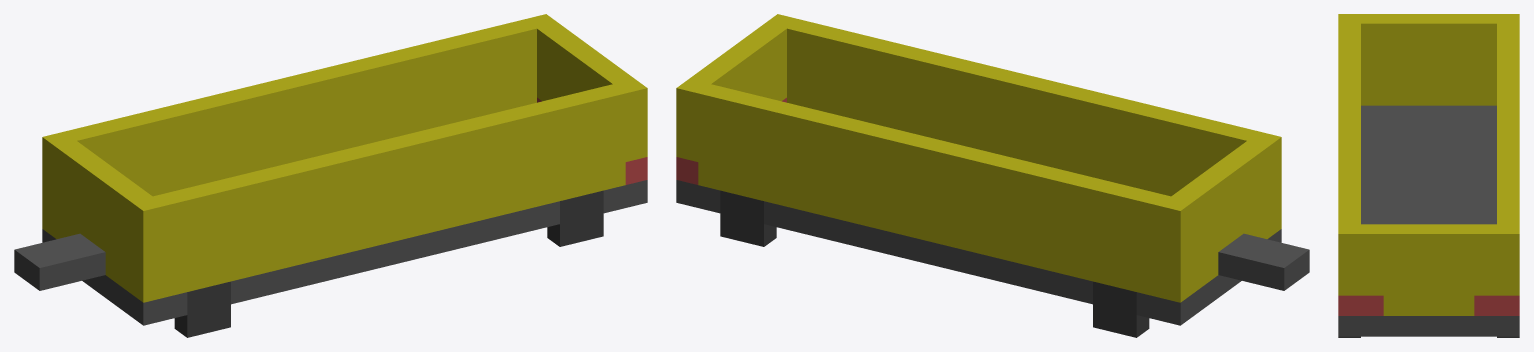
The model's file is tractor-trailer-v1-yellow.gltf.
The picture shows the model from 3 angles, left to right: view 1: azimuth 30°, elevation 25°; view 2: azimuth 150°, elevation 25°; view 3: azimuth 270°, elevation 25°; orthographic projection. The views are drawn at different scales.
Parts seen in each view (by area): view 1: model, wheels; view 2: model, wheels; view 3: model.
Part boxes in pixels (x1=…): model: x1=14, y1=14, x2=647, y2=337; wheels: x1=174, y1=191, x2=603, y2=336; model: x1=676, y1=14, x2=1309, y2=337; wheels: x1=720, y1=192, x2=1149, y2=336; model: x1=1338, y1=14, x2=1519, y2=337.
Size of the model in its own units: 2.6 by 0.6 by 0.8.
2 materials, 2 textured.
